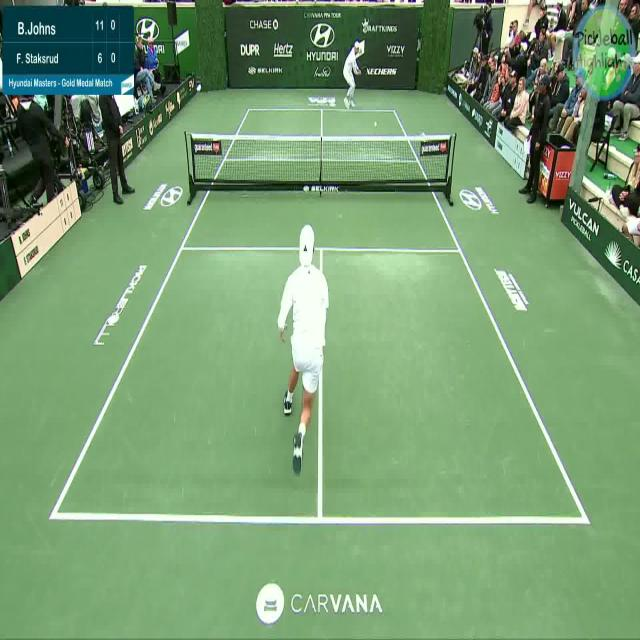ball: (370, 115, 380, 132)
